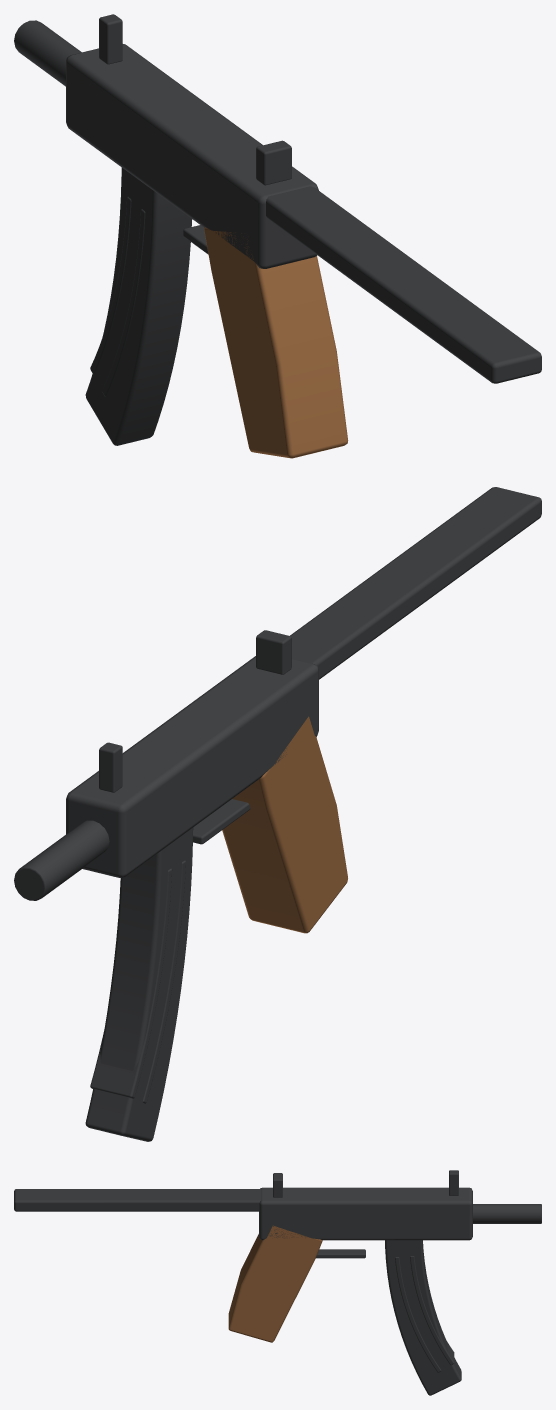
Rendered from skorpion.glb.
The picture shows the model from 3 angles, top to bottom: view 1: azimuth 30°, elevation 25°; view 2: azimuth 150°, elevation 25°; view 3: azimuth 270°, elevation 25°; orthographic projection. The views are drawn at different scales.
Visible parts, largest first — view 1: Receiver, Grip, Mag_body, WireStock, Barrel, RSight, Mag_body_rib0, FSight, Mag_body_rib1; view 2: Receiver, Mag_body, Grip, WireStock, Barrel, Mag_body_rib1, RSight, TriggerGuard, Mag_body_rib0, FSight; view 3: Receiver, Grip, WireStock, Mag_body, Barrel, Mag_body_rib1, Mag_body_rib0, TriggerGuard.
Part boxes in pixels (<box>): Receiver: <box>66,44,318,268</box>; Grip: <box>204,227,348,458</box>; Mag_body: <box>85,167,192,445</box>; WireStock: <box>266,186,541,383</box>; Barrel: <box>14,20,81,86</box>; RSight: <box>256,140,291,185</box>; Mag_body_rib0: <box>102,209,145,396</box>; FSight: <box>99,14,122,64</box>; Mag_body_rib1: <box>90,196,131,374</box>; Receiver: <box>66,656,318,877</box>; Mag_body: <box>85,828,193,1141</box>; Grip: <box>222,716,347,933</box>; WireStock: <box>290,487,541,679</box>; Barrel: <box>14,820,109,900</box>; Mag_body_rib1: <box>90,868,172,1098</box>; RSight: <box>256,630,291,674</box>; TriggerGuard: <box>193,799,250,844</box>; Mag_body_rib0: <box>142,860,185,1103</box>; FSight: <box>99,742,122,792</box>; Receiver: <box>259,1187,472,1240</box>; Grip: <box>228,1225,322,1342</box>; WireStock: <box>14,1189,261,1211</box>; Mag_body: <box>385,1240,461,1395</box>; Barrel: <box>473,1204,541,1223</box>; Mag_body_rib1: <box>410,1256,454,1365</box>; Mag_body_rib0: <box>395,1257,441,1372</box>; TriggerGuard: <box>316,1249,365,1258</box>.
Size of the model in its own units: 0.03 by 0.1927 by 0.42.
